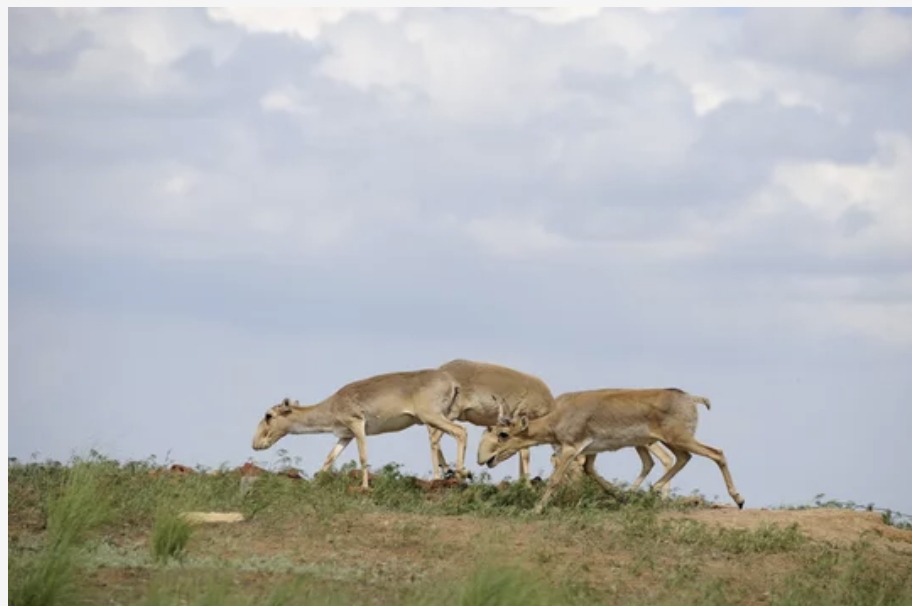saiga: (244, 367, 471, 484)
